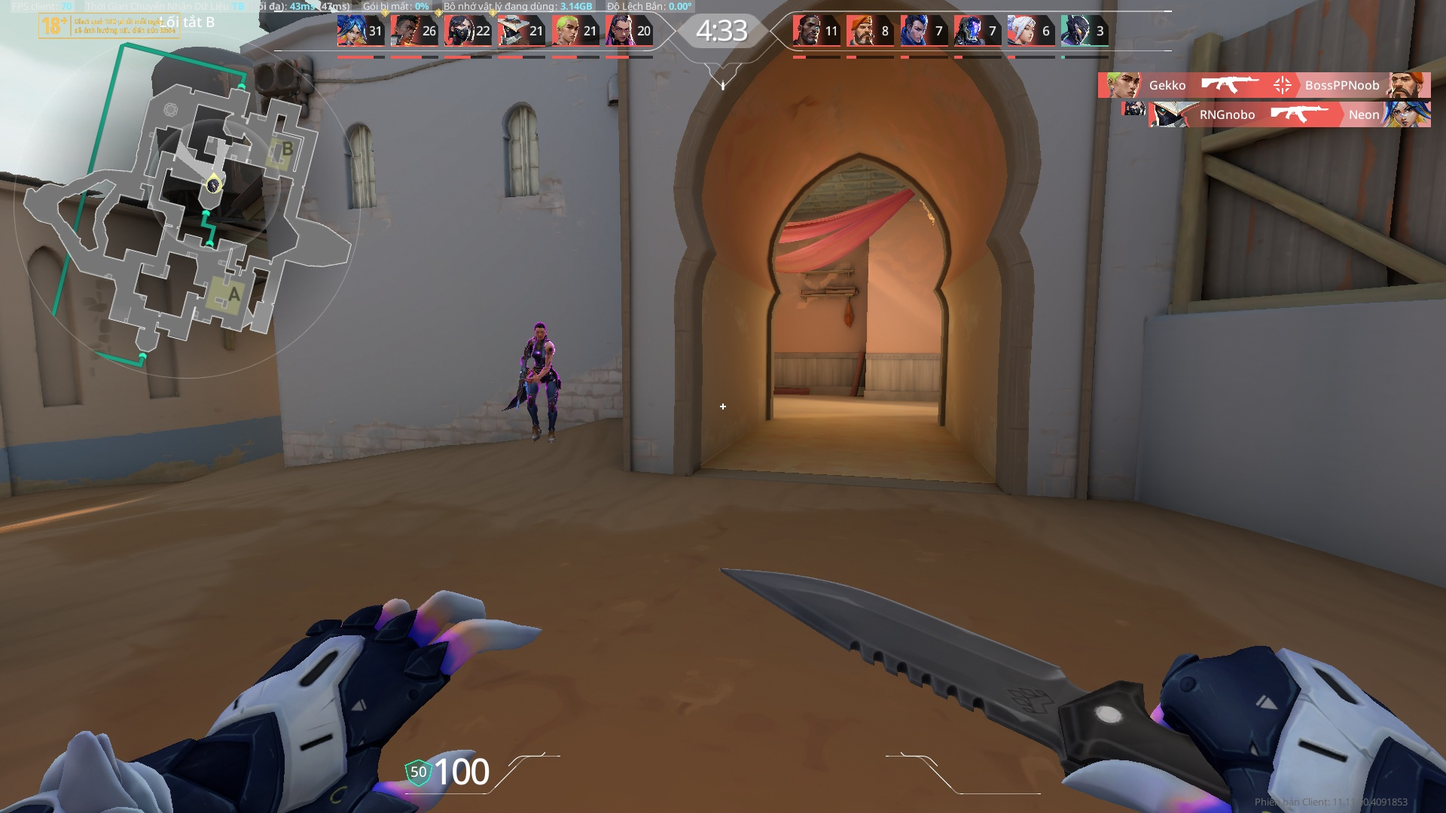body: (520, 337, 559, 381)
head: (531, 318, 548, 343)
